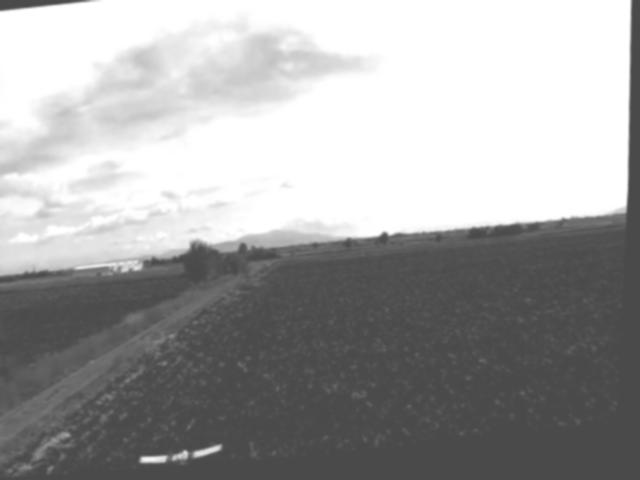hedef: (138, 436, 230, 471)
